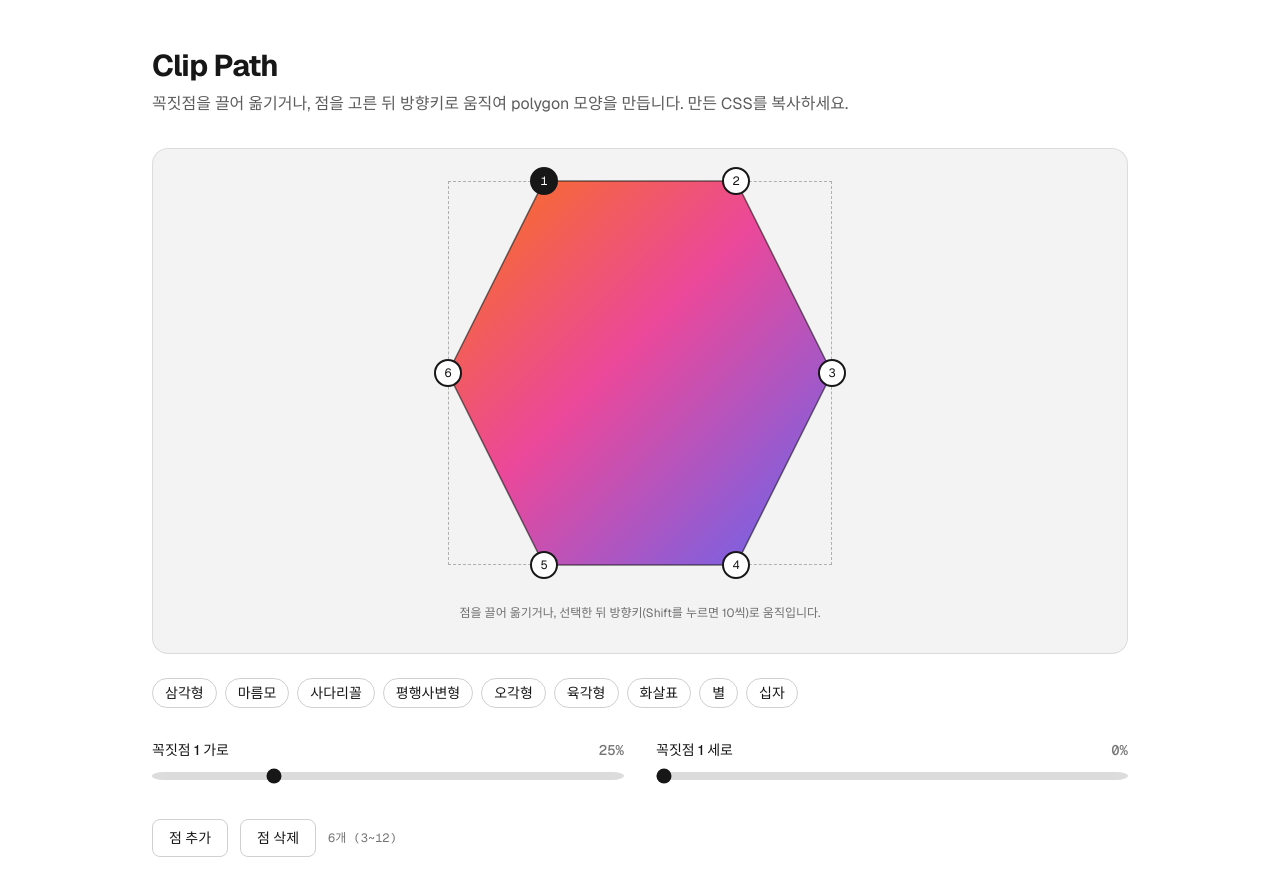
Test case: ClipPathMaker › 모양 칩을 누르면 그 모양으로 바뀐다
Click the button "삼각형": (184, 693) [152,678,217,708]
(page scrolled)
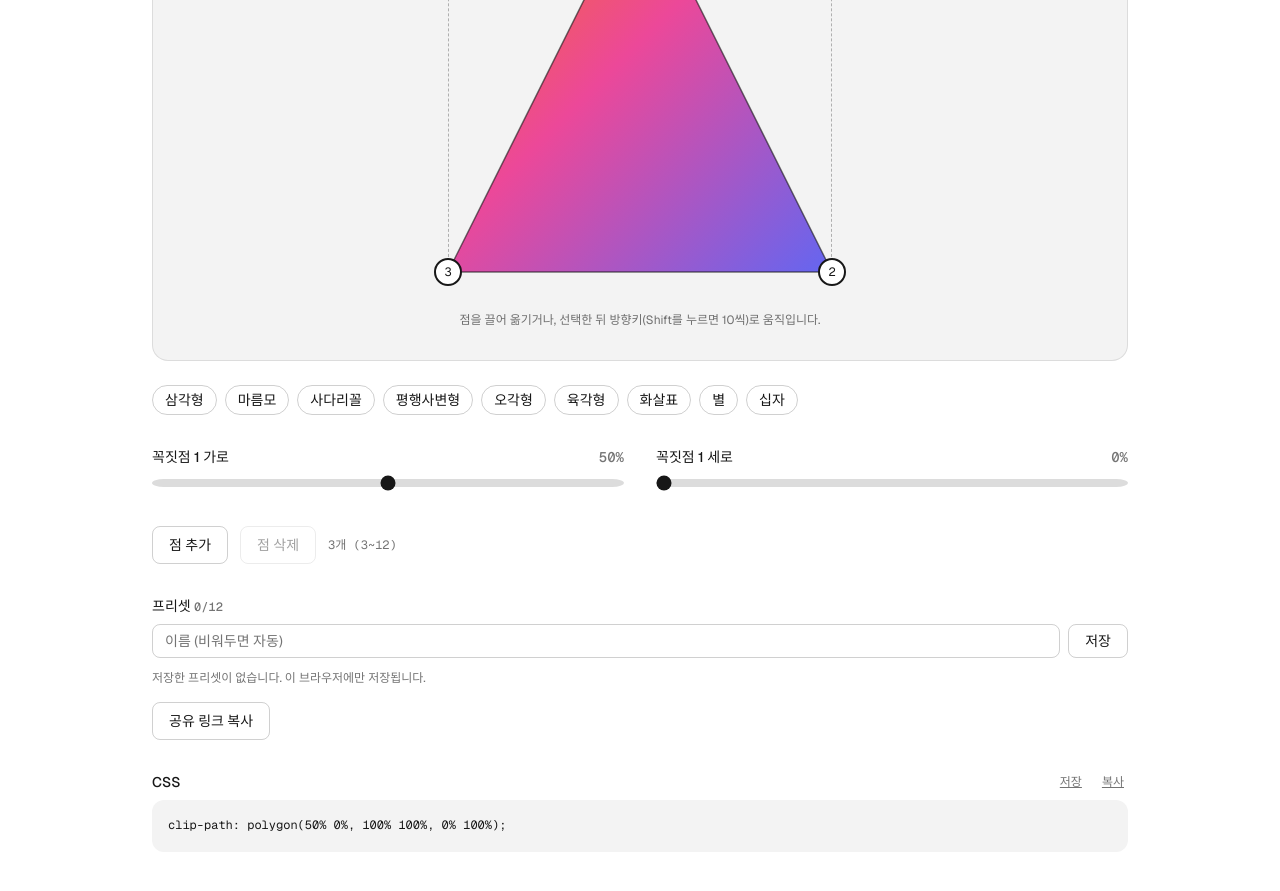
Check: the text "clip-path: polygon(50% 0%, 100% 100%, 0% 100%);" is shown, box [152,800,1128,852]
